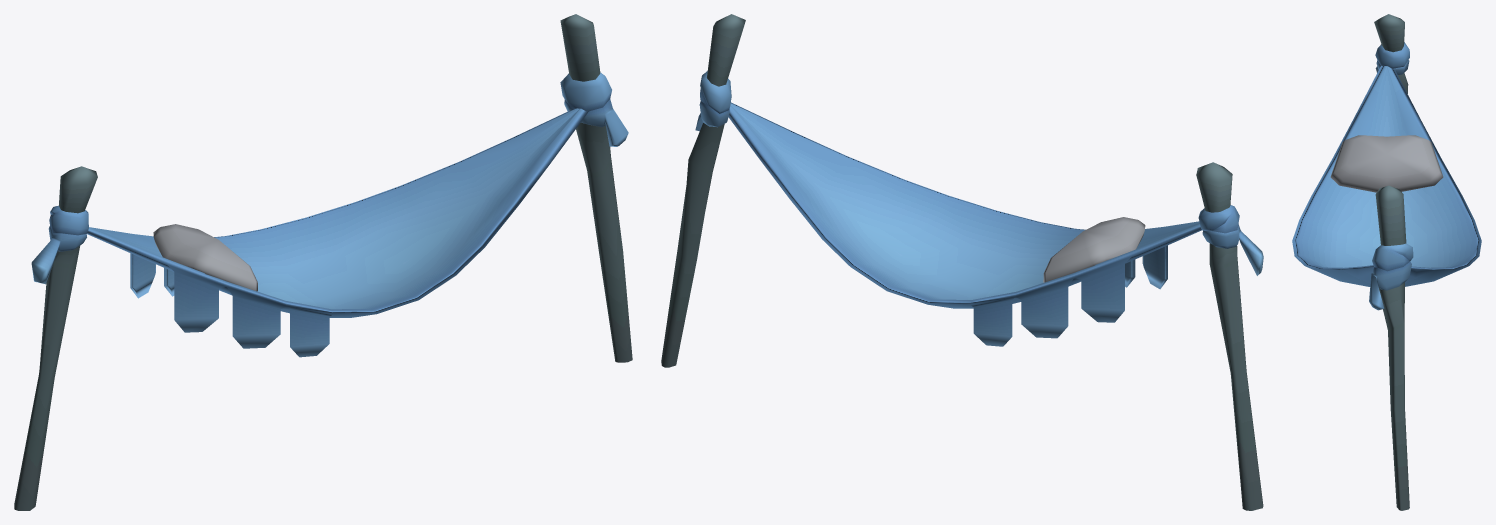
The model's file is CharSkyKid_Prop_AP10Hammock_02.glb.
3 views of the same model, side by side, from view 1: azimuth 30°, elevation 25°; view 2: azimuth 150°, elevation 25°; view 3: azimuth 270°, elevation 25° (orthographic). The views are drawn at different scales.
Parts seen in each view (by area): view 1: CharSkyKid_Prop_AP10Hammock_02; view 2: CharSkyKid_Prop_AP10Hammock_02; view 3: CharSkyKid_Prop_AP10Hammock_02.
Boxes of the visible parts, x1,y1,x2,y2 form: CharSkyKid_Prop_AP10Hammock_02: [14, 14, 632, 510]; CharSkyKid_Prop_AP10Hammock_02: [661, 14, 1263, 510]; CharSkyKid_Prop_AP10Hammock_02: [1292, 14, 1481, 510].
Size of the model in its own units: 2.45 by 1.39 by 0.7965.
Materials: 1 (1 with a texture image).
